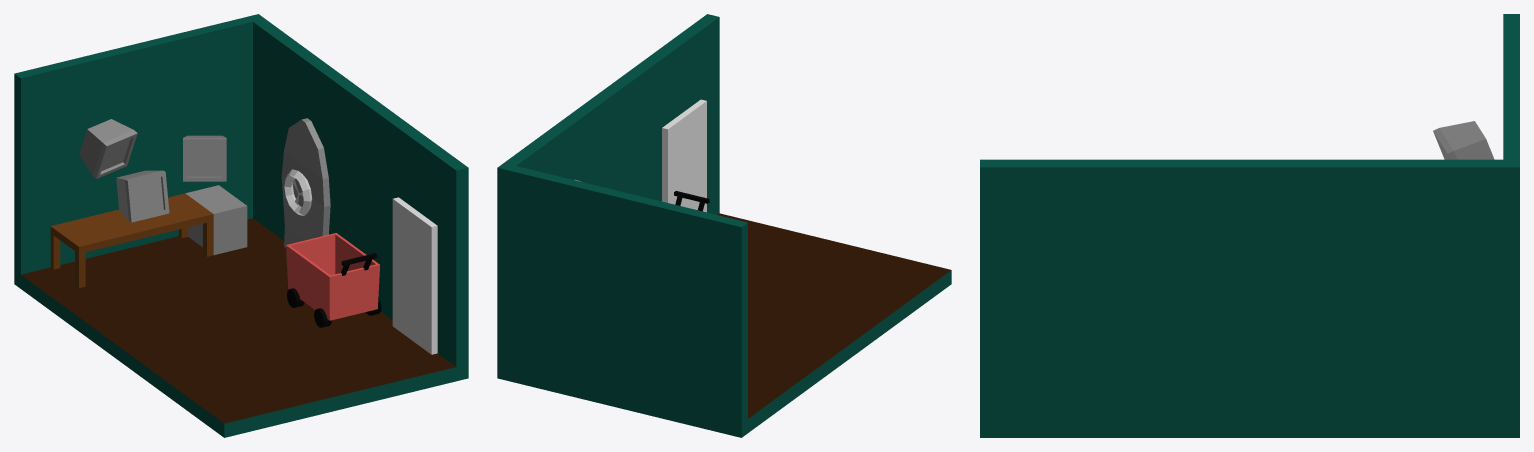
The model's file is hazard_start.glb.
The picture shows the model from 3 angles, left to right: view 1: azimuth 30°, elevation 25°; view 2: azimuth 150°, elevation 25°; view 3: azimuth 270°, elevation 25°; orthographic projection. The views are drawn at different scales.
Parts seen in each view (by area): view 1: Cube, Cube.002, Cube.004, Cube.006, Cube.005, Cube.007, Cube.001, Cube.003; view 2: Cube, Cube.006; view 3: Cube, Cube.007.
Boxes of the visible parts, x1,y1,x2,y2 form: Cube: [14, 14, 468, 437]; Cube.002: [50, 185, 247, 287]; Cube.004: [286, 233, 381, 327]; Cube.006: [392, 197, 437, 354]; Cube.005: [281, 118, 330, 247]; Cube.007: [79, 119, 137, 178]; Cube.001: [116, 170, 169, 222]; Cube.003: [183, 135, 226, 181]; Cube: [497, 14, 951, 437]; Cube.006: [662, 99, 706, 212]; Cube: [980, 14, 1519, 437]; Cube.007: [1433, 121, 1494, 159].
Bounding box in the file's own units: 9.07 × 7.47 × 13.51.
